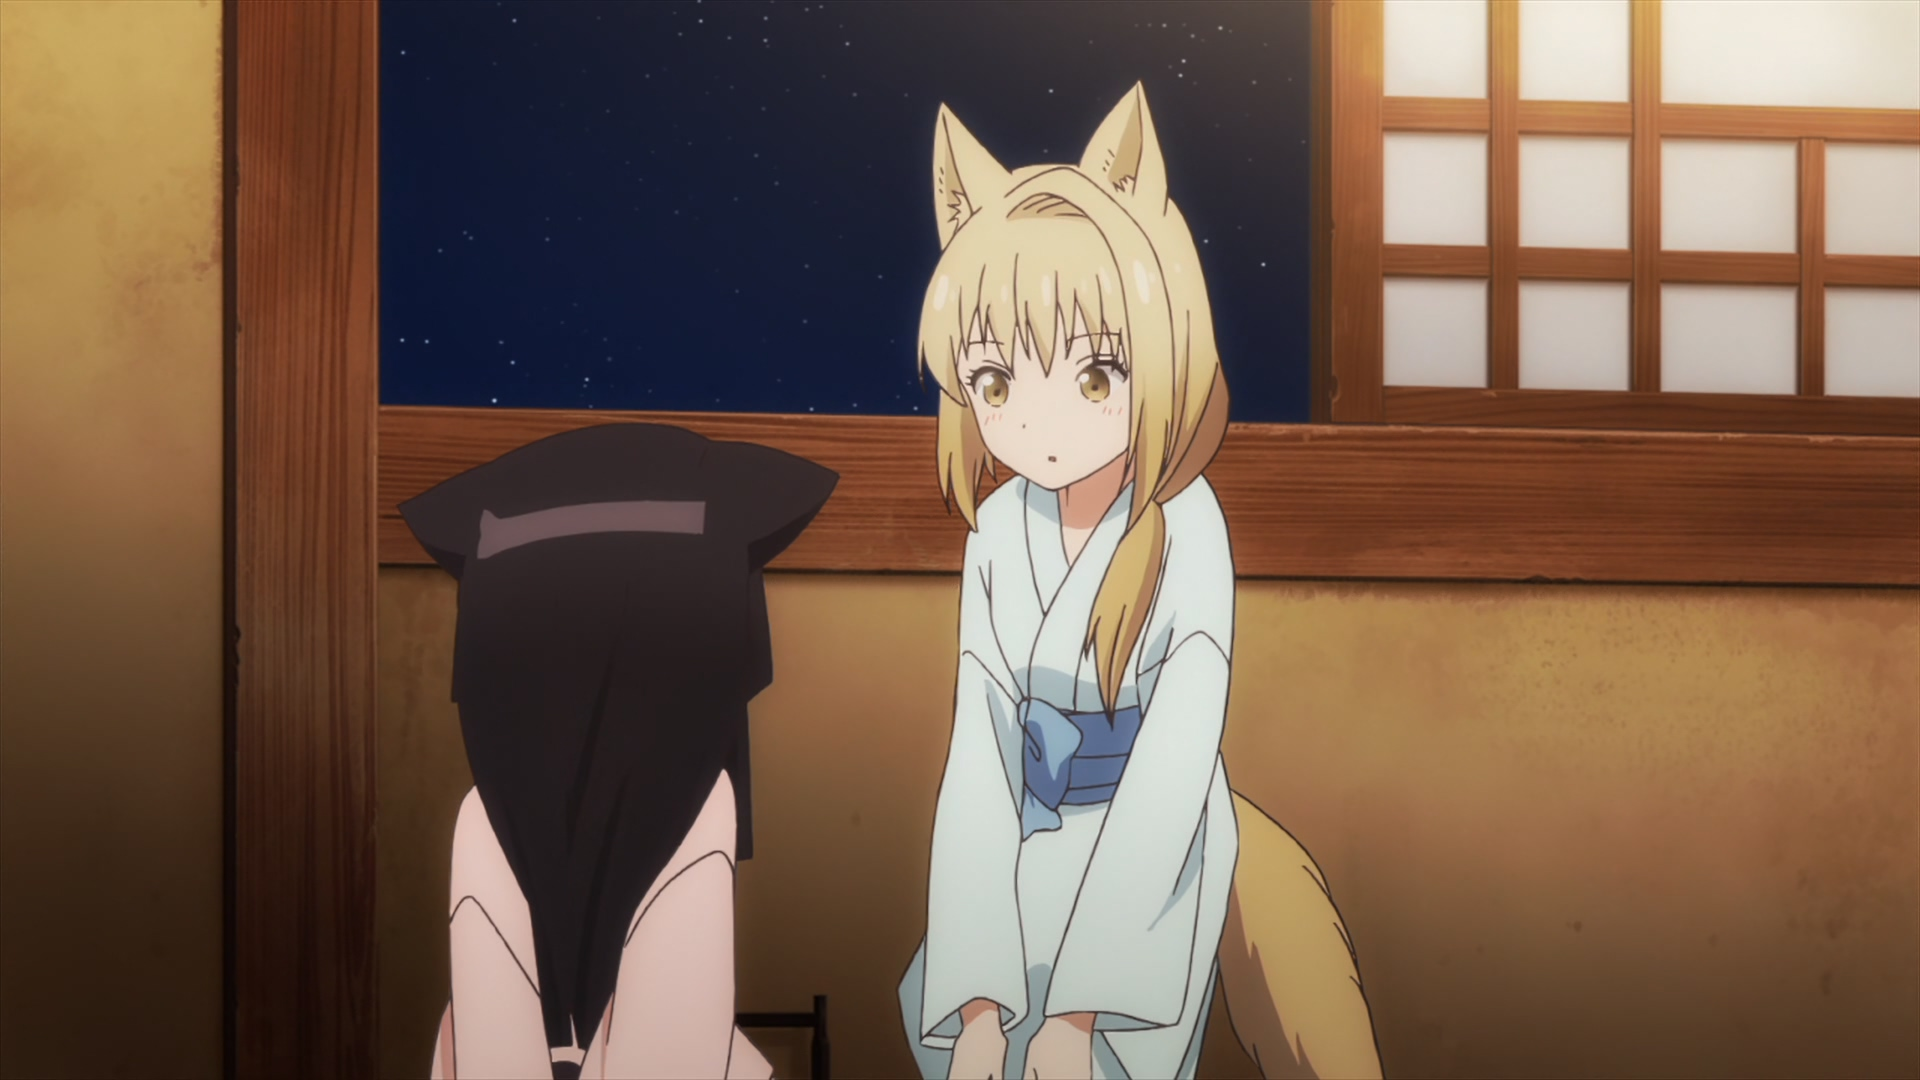桐: (898, 83, 1379, 1080)
樱: (394, 423, 837, 1080)
